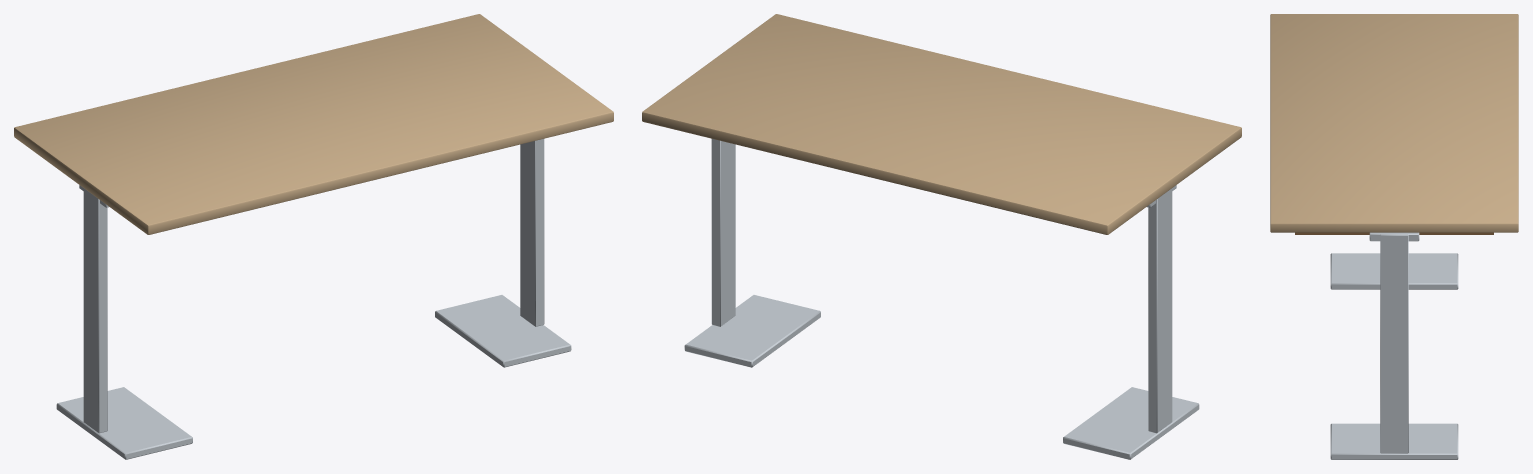
The model's file is work-desk.glb.
The picture shows the model from 3 angles, left to right: view 1: azimuth 30°, elevation 25°; view 2: azimuth 150°, elevation 25°; view 3: azimuth 270°, elevation 25°; orthographic projection. The views are drawn at different scales.
Visible parts, largest first — view 1: work-desk; view 2: work-desk; view 3: work-desk.
Part boxes in pixels (x1,y1,x2,y2): work-desk: (14, 14, 613, 459); work-desk: (642, 14, 1241, 459); work-desk: (1270, 14, 1518, 459).
Bounding box in the file's own units: 1.4 × 0.75 × 0.7.
